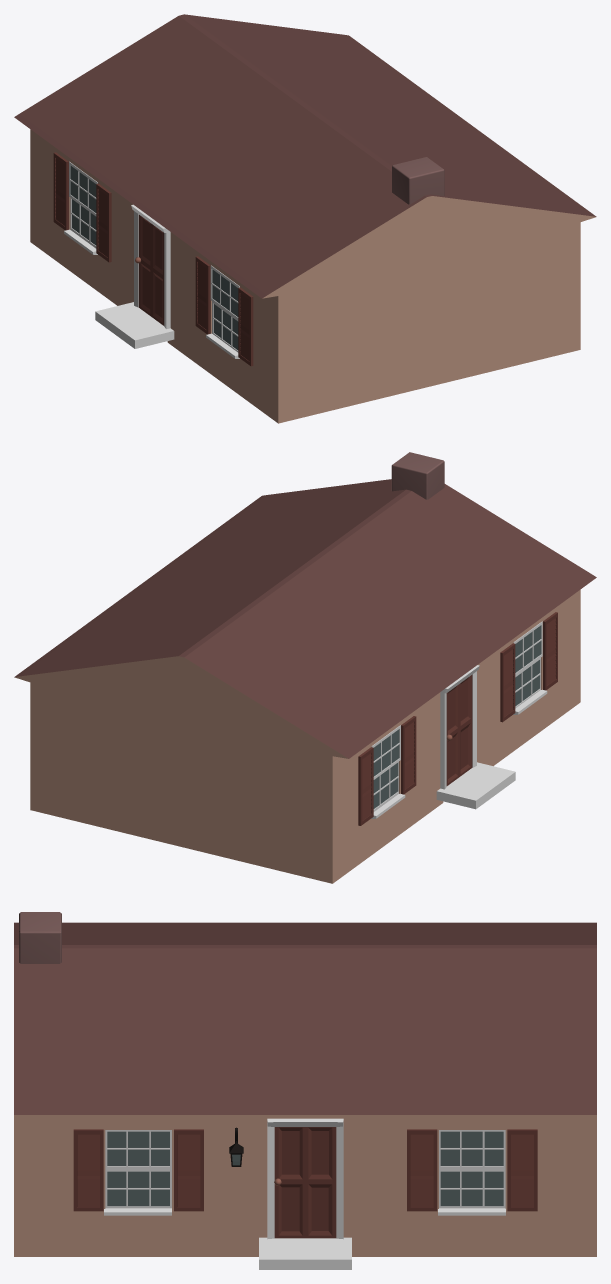
The model's file is house_tiffany_temp.fbx.
3 renders of one model, top to bottom at view 1: azimuth 30°, elevation 25°; view 2: azimuth 150°, elevation 25°; view 3: azimuth 270°, elevation 25°, orthographic. The views are drawn at different scales.
Visible parts, largest first — view 1: house_base, front_door, window_panel_r (×2), window_panel_l (×2), back_door_stoop, chimney1, window_glass (×2), window_glass1 (×2), front_door_frame; view 2: house_base, front_door, window_panel_l (×2), window_panel_r (×2), back_door_stoop, chimney1, window_glass (×2), front_door_frame, window_glass1 (×2); view 3: house_base, front_door, window_panel_l (×2), window_panel_r (×2), window_glass1 (×2), window_glass (×2), front_door_stoop, front_door_frame, chimney1, window_boxes (×2), window_boxes1 (×2), sill_4 (+1 smaller).
Part boxes in pixels (bbox=[...]): house_base: bbox=[14, 14, 596, 423]; front_door: bbox=[138, 214, 164, 325]; window_panel_r (×2): bbox=[96, 183, 253, 366]; window_panel_l (×2): bbox=[53, 152, 210, 334]; back_door_stoop: bbox=[95, 302, 174, 348]; chimney1: bbox=[392, 157, 444, 204]; window_glass (×2): bbox=[70, 165, 238, 316]; window_glass1 (×2): bbox=[72, 199, 238, 350]; front_door_frame: bbox=[131, 204, 170, 329]; house_base: bbox=[14, 479, 596, 883]; front_door: bbox=[446, 675, 472, 785]; window_panel_l (×2): bbox=[358, 643, 515, 825]; window_panel_r (×2): bbox=[401, 612, 557, 794]; back_door_stoop: bbox=[436, 762, 515, 809]; chimney1: bbox=[391, 452, 444, 499]; window_glass (×2): bbox=[373, 625, 541, 776]; front_door_frame: bbox=[440, 665, 479, 789]; window_glass1 (×2): bbox=[373, 660, 539, 808]; house_base: bbox=[14, 922, 596, 1256]; front_door: bbox=[274, 1127, 336, 1238]; window_panel_l (×2): bbox=[73, 1129, 437, 1211]; window_panel_r (×2): bbox=[174, 1129, 537, 1211]; window_glass1 (×2): bbox=[107, 1171, 503, 1206]; window_glass (×2): bbox=[107, 1131, 503, 1165]; front_door_stoop: bbox=[259, 1237, 351, 1269]; front_door_frame: bbox=[267, 1118, 343, 1239]; chimney1: bbox=[19, 912, 61, 963]; window_boxes (×2): bbox=[105, 1130, 505, 1169]; window_boxes1 (×2): bbox=[105, 1169, 505, 1208]; sill_4: bbox=[438, 1208, 505, 1215].
Size of the model in its own units: 46.03 by 24.47 by 52.
